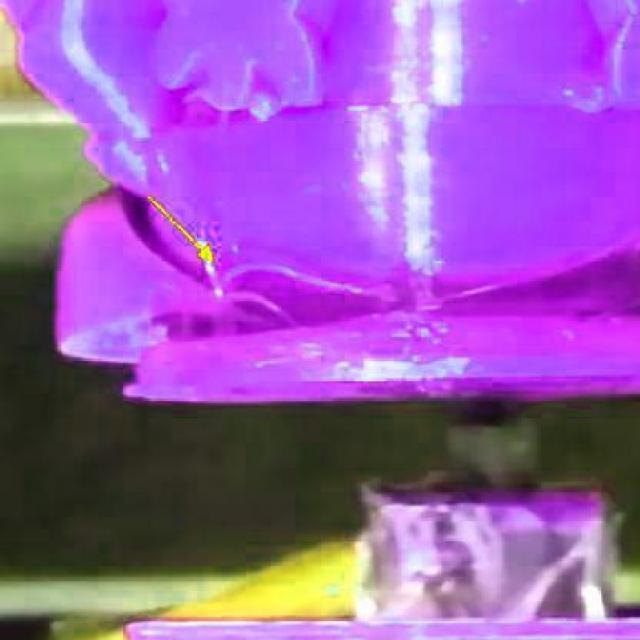spaghetti: (212, 255, 421, 348)
